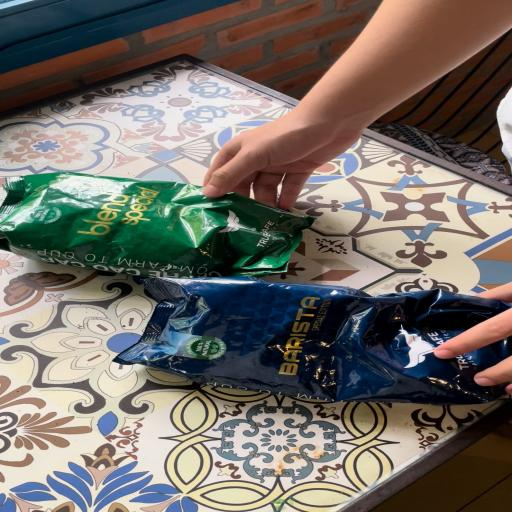cafe_hat: (115, 278, 512, 405)
cafe_xay: (0, 172, 312, 278)
